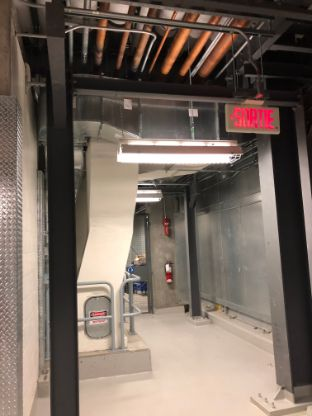Duct: (71, 132, 149, 358), (33, 85, 224, 147)
